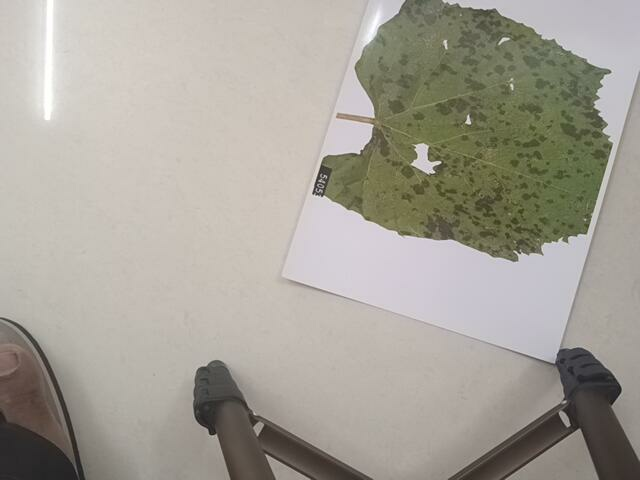Grape_Blight_Leaf: (330, 1, 621, 270)
